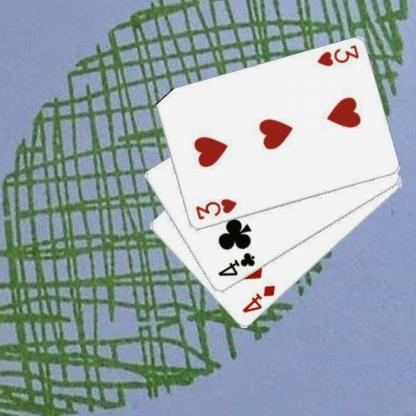3H: (314, 42, 360, 68), (192, 196, 238, 221)
4C: (215, 250, 256, 278)
4D: (240, 282, 276, 315)
